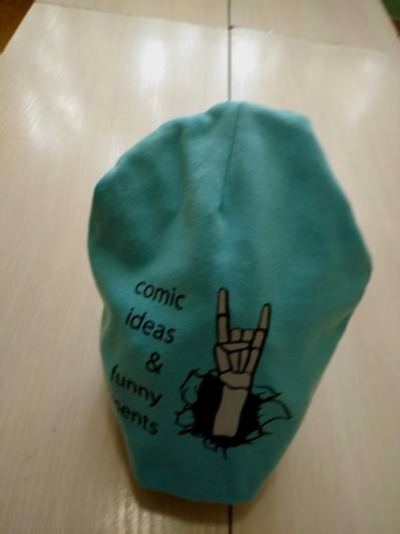Hat: (69, 81, 377, 506)
